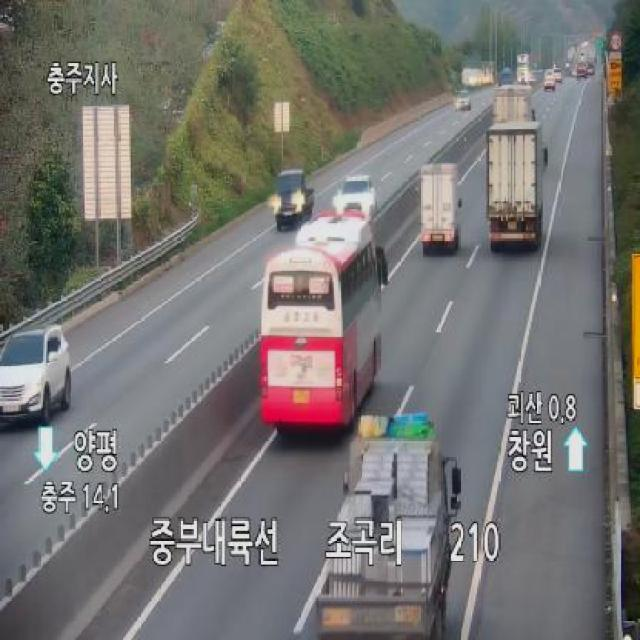Car: (22, 326, 72, 426), (334, 177, 377, 225)
Truck: (314, 411, 463, 640), (258, 211, 391, 432), (486, 124, 549, 253), (417, 165, 463, 260), (272, 169, 318, 229), (516, 56, 530, 84), (575, 52, 588, 80), (543, 70, 555, 92)
